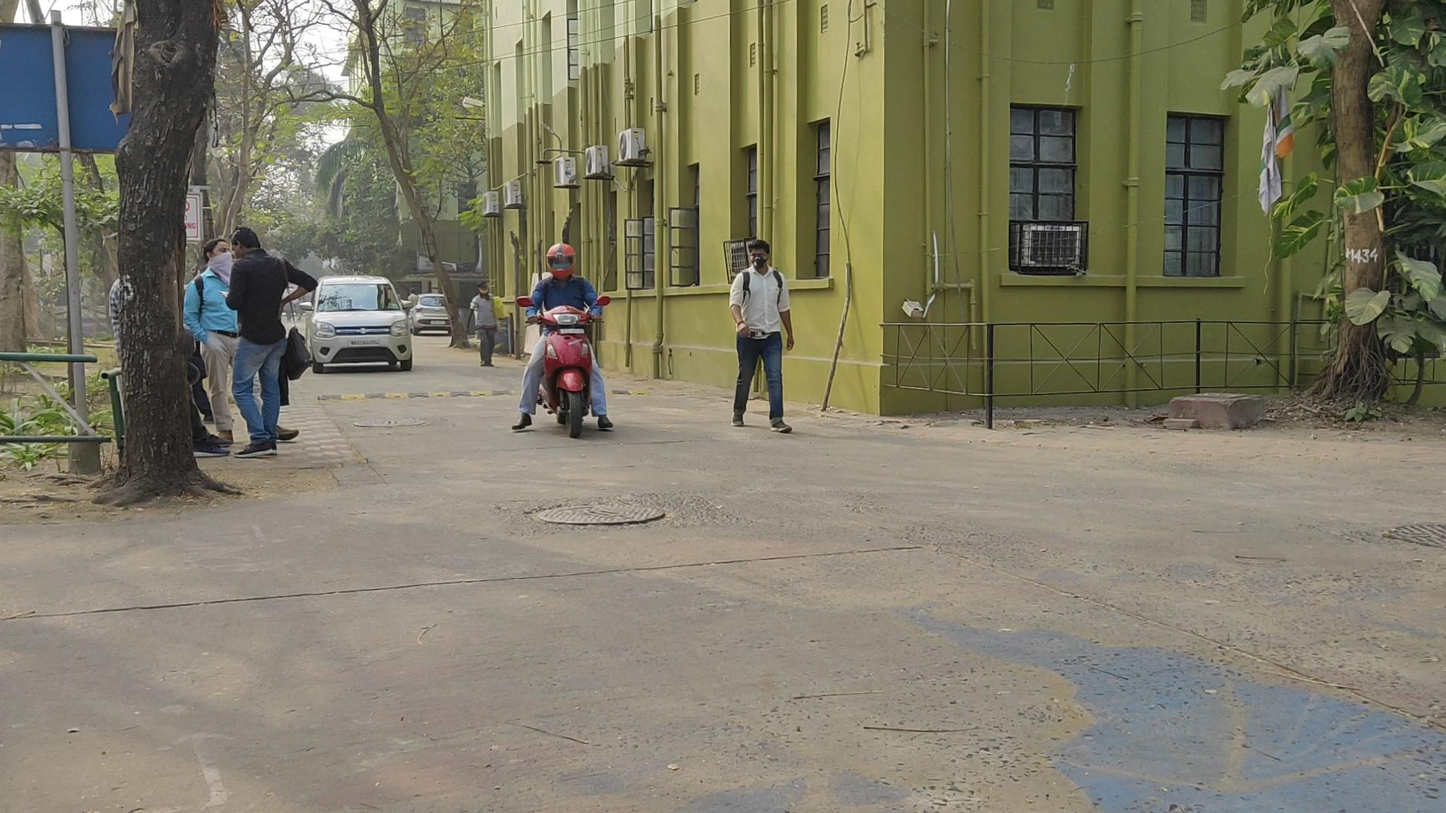bike: (516, 243, 616, 442)
car: (304, 275, 415, 379), (408, 292, 447, 335)
